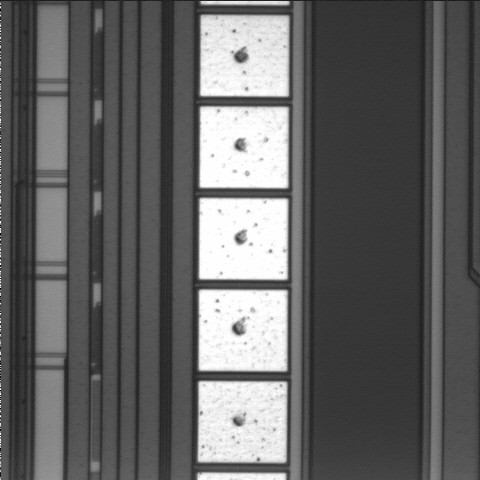pad: (200, 15, 289, 97), (199, 198, 288, 280), (198, 381, 287, 463), (200, 107, 289, 188), (199, 290, 287, 371)
